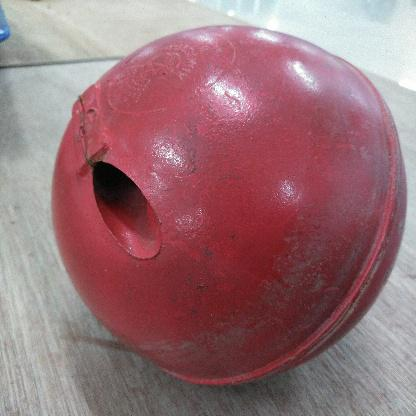red_buoy: (52, 26, 408, 388)
